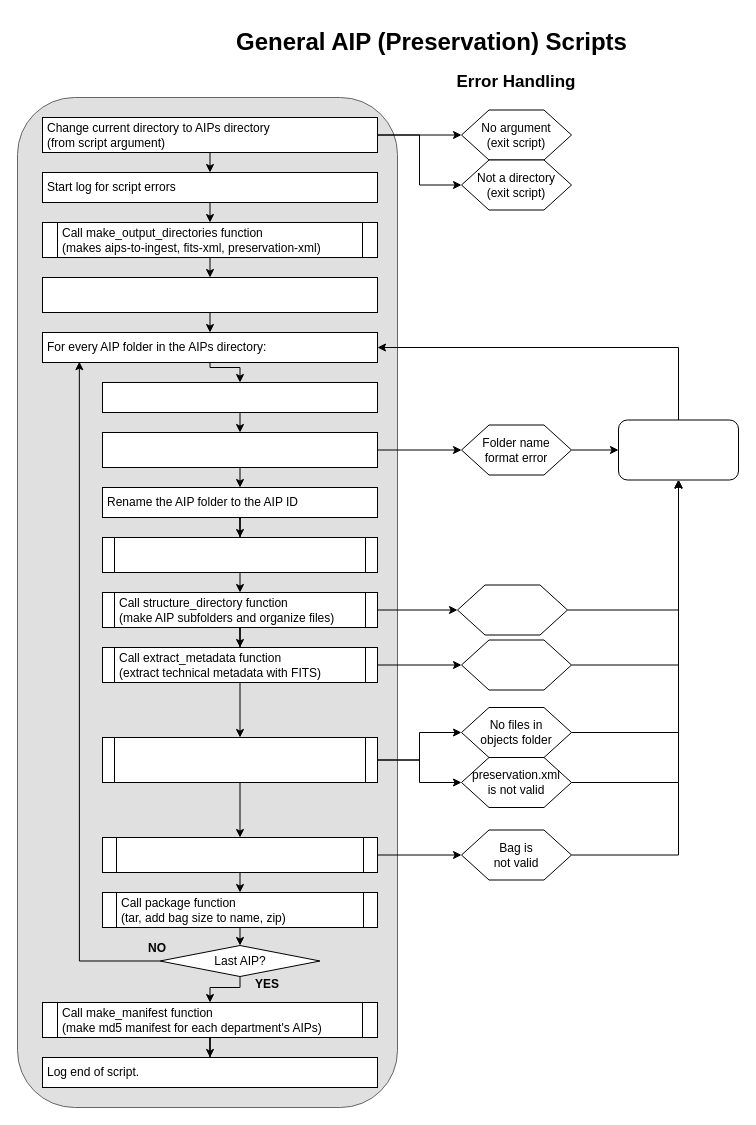
This 756x1125 diagram has some shape labels left out. Here are the shapes that lost their labels. From the top down, the box of each, then its label:
(42, 276, 378, 312): Start progress counter (current AIP number and total AIPs)
(102, 382, 378, 412): Update and print the progress counter
(102, 432, 378, 468): Get the AIP ID, department, and AIP title from the AIP folder name
(618, 419, 738, 480): Move to error folder and start next AIP
(102, 536, 378, 572): Call delete_temp function (delete temporary files based on file name)
(456, 584, 568, 635): Can't make a folder
(460, 639, 572, 690): Can't make combined-fits
(102, 736, 378, 782): Call make_preservationxml function (convert FITS to PREMIS and DC with XSLT)
(102, 836, 378, 872): Call bag function (bag, rename, validate bag)
